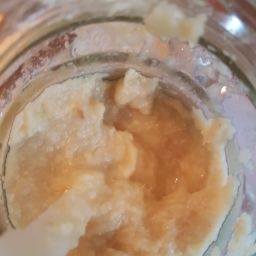Ginger garlic paste: (1, 3, 256, 256), (41, 72, 231, 256), (6, 97, 227, 252)
